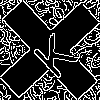K: (24, 24, 80, 81)
